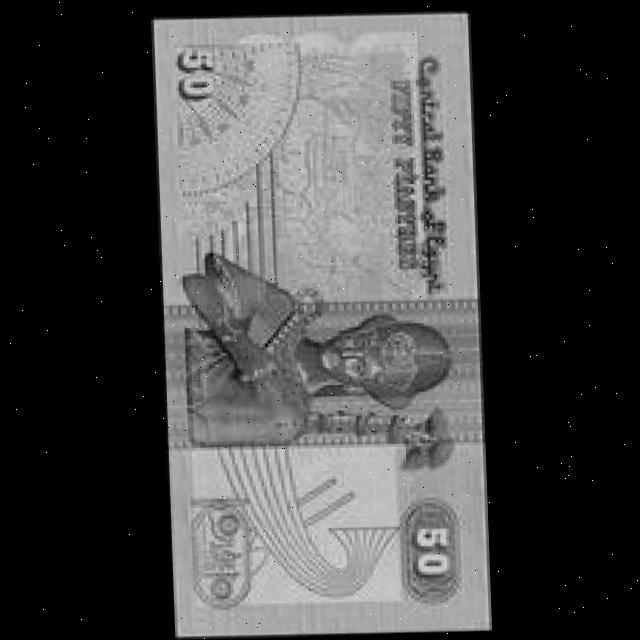banknote: (149, 2, 499, 640)
